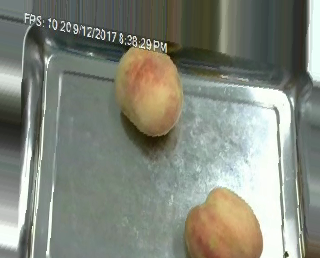Peach: (116, 43, 183, 136), (184, 186, 262, 257)
